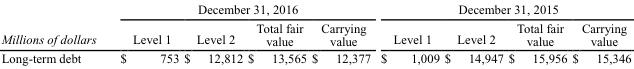table: (0, 1, 630, 65)
table column: (0, 1, 107, 65), (107, 1, 180, 65), (308, 1, 375, 65), (375, 1, 441, 65), (180, 1, 244, 65), (244, 1, 308, 65), (441, 1, 505, 65), (505, 1, 569, 65), (569, 1, 630, 65)
table column header: (0, 1, 630, 49)
table row: (0, 18, 630, 49), (0, 1, 630, 18), (0, 49, 630, 65)
table spanning cell: (0, 1, 107, 49), (107, 1, 375, 18), (375, 1, 630, 18)
